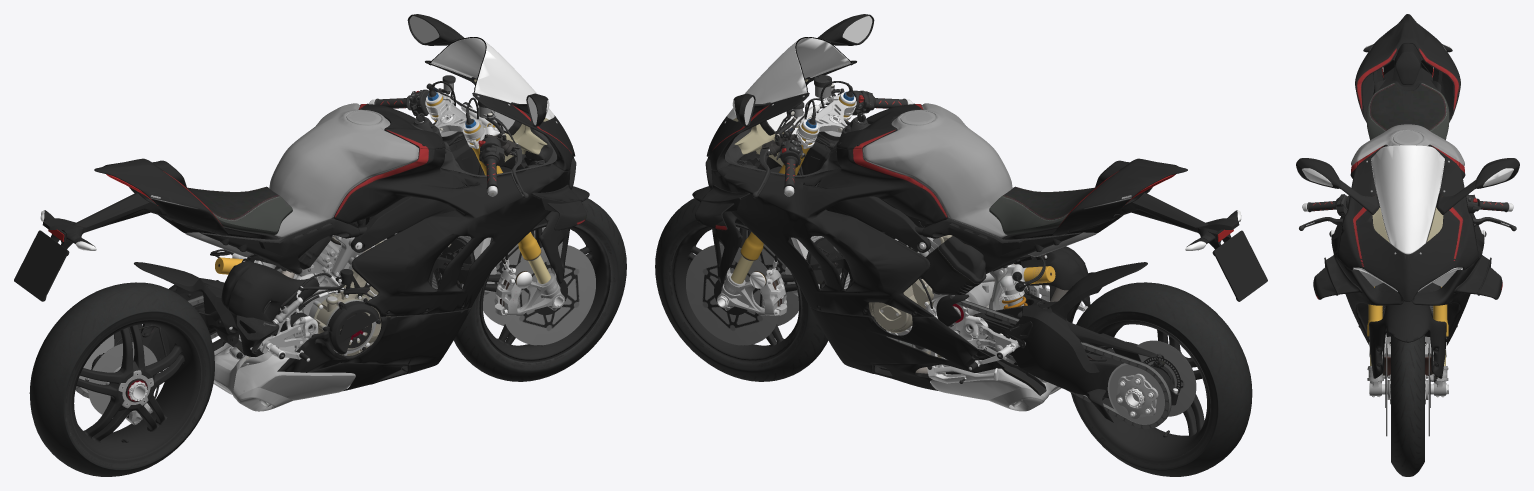
File: moto.glb
The picture shows the model from 3 angles, left to right: view 1: azimuth 30°, elevation 25°; view 2: azimuth 150°, elevation 25°; view 3: azimuth 270°, elevation 25°; orthographic projection. The views are drawn at different scales.
Parts seen in each view (by area): view 1: Object_15, Object_17, Object_4, Object_20, Object_5, Object_14, Object_9, Object_11, Object_13, Object_2, Object_12; view 2: Object_15, Object_17, Object_4, Object_20, Object_5, Object_14, Object_9, Object_13, Object_11, Object_2, Object_10, Object_7 (+1 smaller); view 3: Object_15, Object_13, Object_17, Object_9, Object_5, Object_14.
Part boxes in pixels (x1,y1,x2,y2): Object_15: (14,60,589,390); Object_17: (42,14,565,424); Object_4: (29,282,214,476); Object_20: (71,223,610,459); Object_5: (369,62,556,198); Object_14: (88,227,595,416); Object_9: (453,198,626,381); Object_11: (213,341,355,411); Object_13: (40,37,554,288); Object_2: (221,258,319,357); Object_12: (409,16,537,125); Object_15: (692,60,1267,422); Object_17: (717,14,1239,418); Object_4: (1071,282,1252,476); Object_20: (671,223,1210,459); Object_5: (725,63,912,198); Object_14: (686,227,1196,416); Object_9: (655,198,828,381); Object_13: (727,37,1241,288); Object_11: (930,346,1061,411); Object_2: (915,246,1088,373); Object_10: (949,300,1171,429); Object_7: (952,303,1164,424); Object_15: (1313,14,1502,378); Object_13: (1302,44,1513,357); Object_17: (1296,44,1519,397); Object_9: (1391,335,1424,476); Object_5: (1299,194,1516,231); Object_14: (1385,343,1430,436).
Size of the model in its own units: 2.1 by 1.19 by 0.7986.
16 materials, 14 textured.
